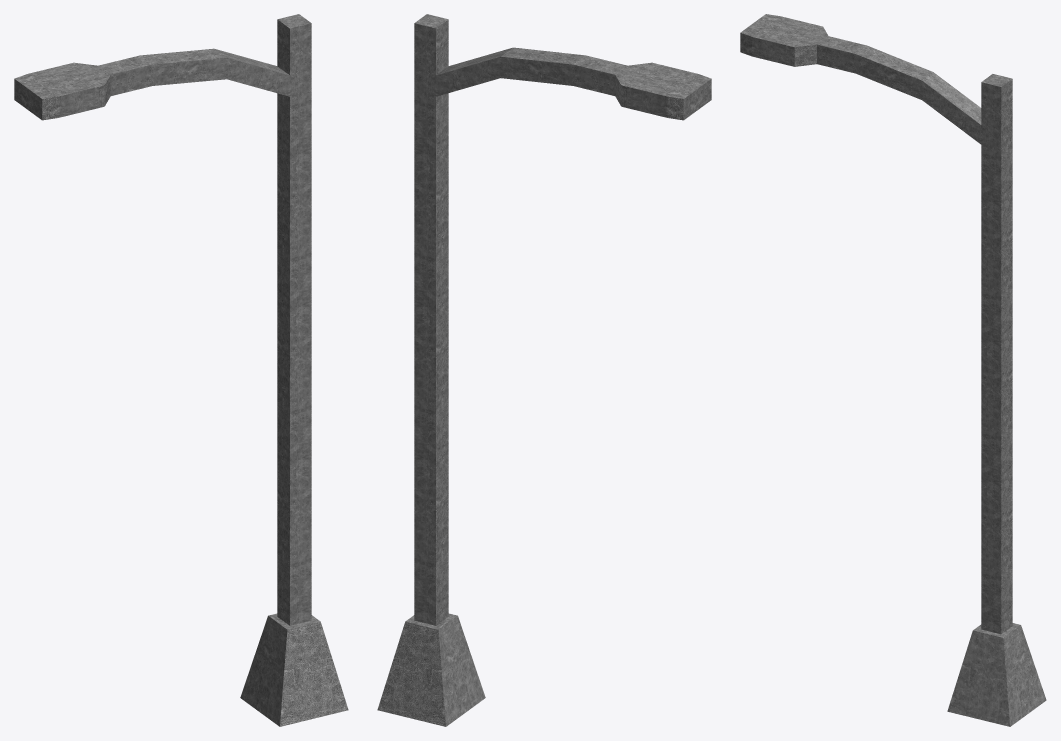
File: StreetLight.obj
3 renders of one model, left to right at view 1: azimuth 30°, elevation 25°; view 2: azimuth 150°, elevation 25°; view 3: azimuth 330°, elevation 25°, orthographic. The views are drawn at different scales.
Visible parts, largest first — view 1: Cube.004_Material.006; view 2: Cube.004_Material.006; view 3: Cube.004_Material.006.
Part boxes in pixels (x1,y1,x2,y2): Cube.004_Material.006: (14, 14, 348, 726); Cube.004_Material.006: (377, 14, 711, 726); Cube.004_Material.006: (740, 14, 1046, 726).
Bounding box in the file's own units: 5.14 × 11.16 × 1.18.
2 materials, 1 textured.
